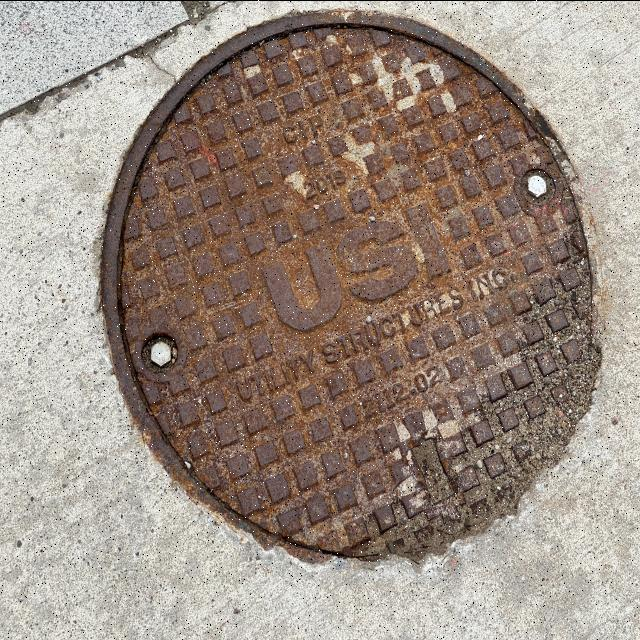Manhole: (98, 12, 598, 560)
